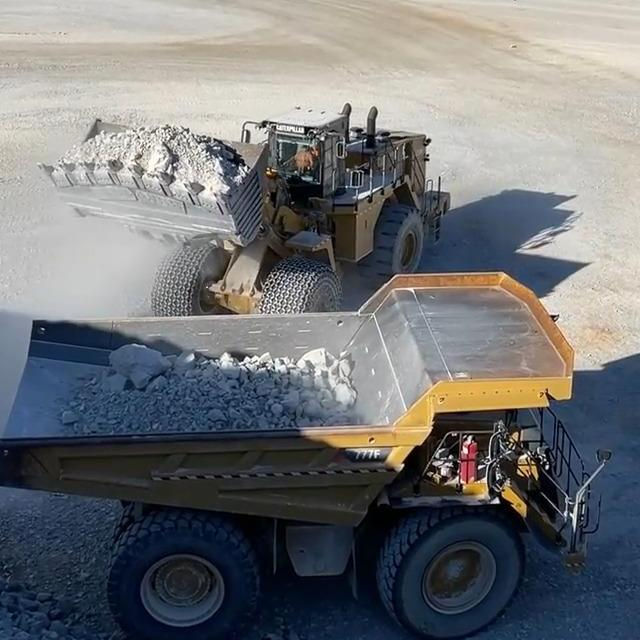NO-Hardhat: (299, 143, 310, 150)
NO-Safety Vest: (296, 154, 310, 168)
Person: (284, 142, 314, 171)
dump truck: (0, 267, 617, 640)
wheel loader: (39, 100, 453, 314)
